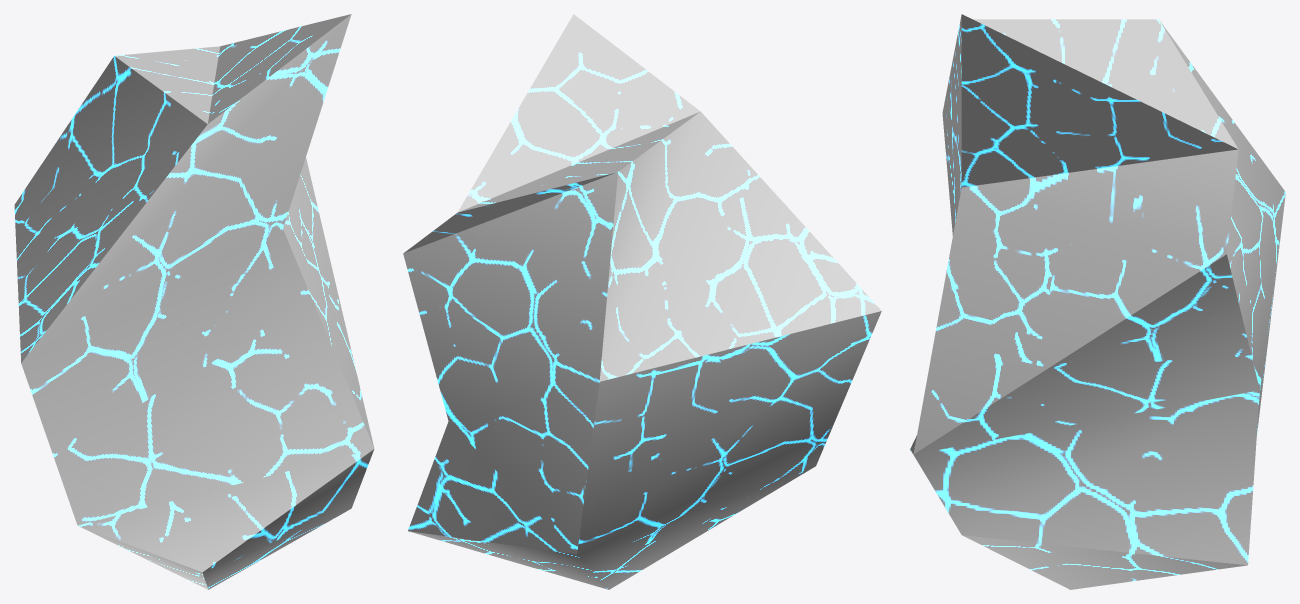
Rendered from emissive_particle.gltf.
3 renders of one model, left to right at view 1: azimuth 30°, elevation 25°; view 2: azimuth 150°, elevation 25°; view 3: azimuth 270°, elevation 25°, orthographic. The views are drawn at different scales.
Visible parts, largest first — view 1: Cube.2; view 2: Cube.2; view 3: Cube.2.
Part boxes in pixels (box(x1,y1,x2,y2)): Cube.2: box(14, 14, 374, 589); Cube.2: box(403, 14, 881, 589); Cube.2: box(910, 14, 1285, 589).
Bounding box in the file's own units: 0.0878 × 0.122 × 0.0667.
